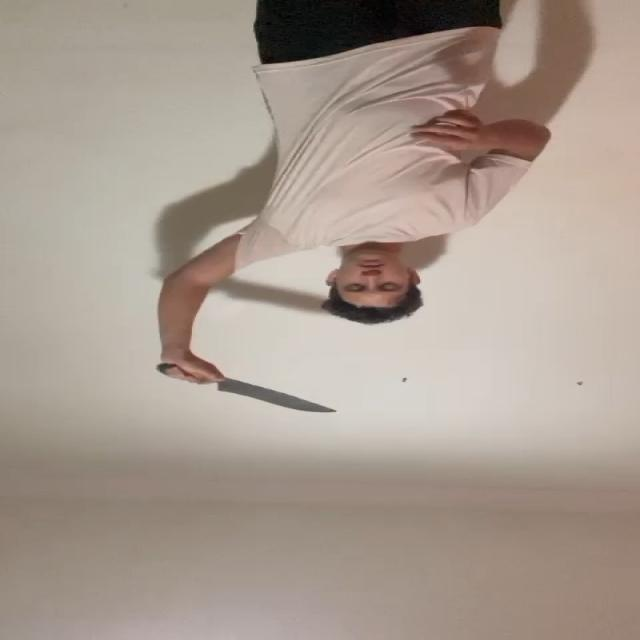knife: (218, 384, 338, 414)
